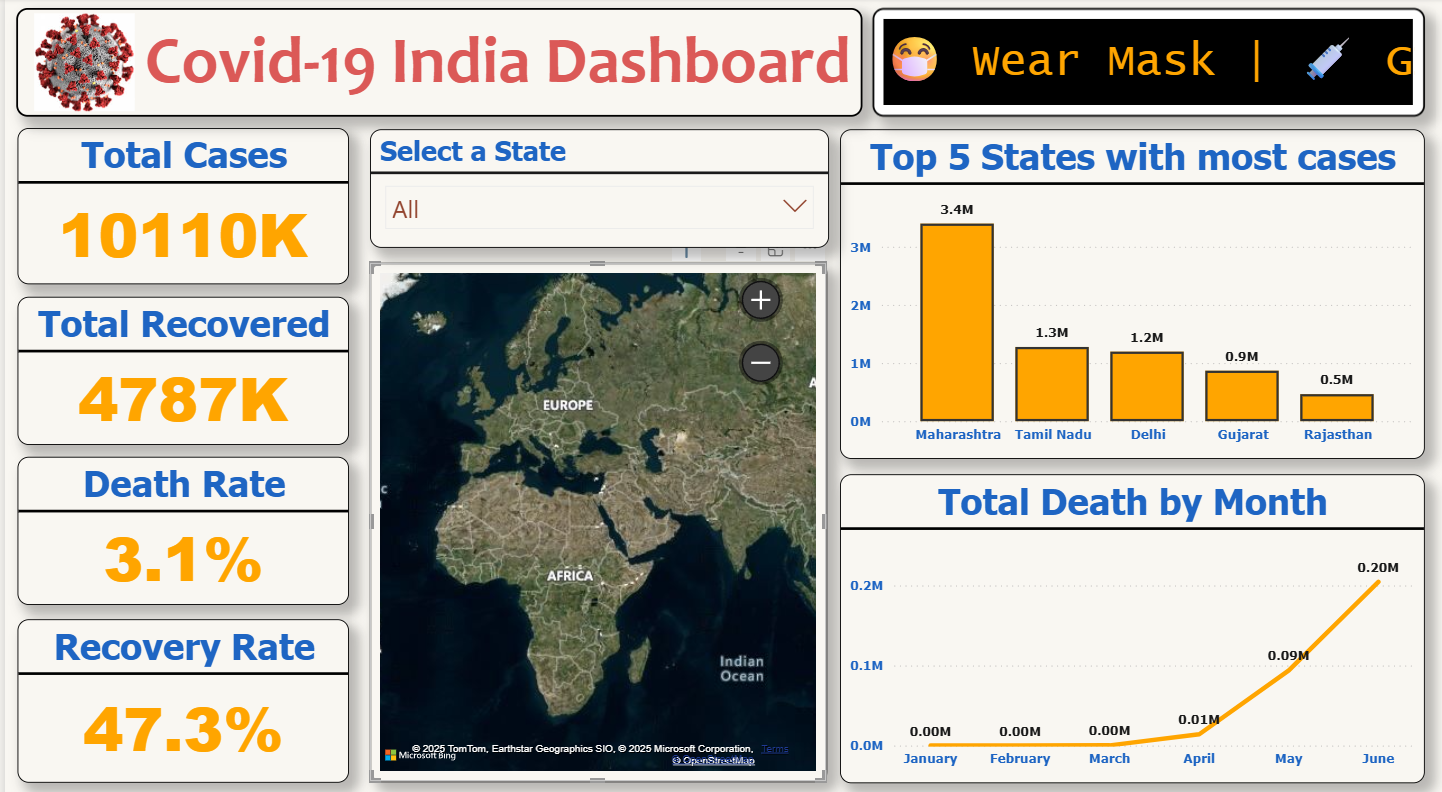

Layout of this report page (visuals, bound fields, positions):
{"tool":"powerbi","page":{"name":"Dashboard","canvas":[1280,720],"ordinal":0},"visuals":[{"type":"card","title":"Total Cases","fields":{"Values":["Key Measures.Total Cases"]},"box":[10.7,116.1,295.5,139.3],"z":0},{"type":"card","title":"Total Recovered","fields":{"Values":["Key Measures.Total Recovered"]},"box":[10.7,266.1,295.5,131.7],"z":1000},{"type":"card","title":"Death Rate","fields":{"Values":["Key Measures.Death Rate"]},"box":[10.7,408.2,295.5,131.7],"z":2000},{"type":"card","title":"Recovery Rate","fields":{"Values":["Key Measures.Recovery Rate"]},"box":[10.7,552.7,295.5,145.5],"z":3000},{"type":"filledMap","title":"State wise Active Cases","fields":{"X":["Sum(Covid+19+India+Dataset.Longitude)"]},"box":[324.6,235.8,407.3,462.4],"z":4000},{"type":"columnChart","title":"Top 5 States with most cases","fields":{"Category":["Covid+19+India+Dataset.Name of State / UT"],"Y":["Key Measures.Total Cases"]},"box":[744.1,116.4,520.6,294],"z":5000},{"type":"lineChart","fields":{"Category":["Covid+19+India+Dataset.Date.Variation.Date Hierarchy.Month"],"Y":["Key Measures.Total Death"]},"box":[744.1,424.1,520.6,275.6],"z":6000},{"type":"textbox","box":[10.3,9,753.5,96.8],"z":7000},{"type":"image","box":[20.6,9,99.4,96.8],"z":8000},{"type":"slicer","title":"Select a State","fields":{"Values":["Covid+19+India+Dataset.Name of State / UT"]},"box":[324.6,116.4,408.8,105.6],"z":9000},{"type":"ScrollingTextVisual1448795304508","fields":{"Measure Absolute":["Key Measures.Total Death"]},"box":[772.9,9,491.6,96.8],"z":10000}]}

Visuals, with their boxes in screenshot pixels (x1, y1, x2, y2), scaled from the page's 1280x720 canvas onto the 1442x792 screenshot:
"Total Cases" card: <region>12, 128, 345, 281</region>
"Total Recovered" card: <region>12, 293, 345, 438</region>
"Death Rate" card: <region>12, 449, 345, 594</region>
"Recovery Rate" card: <region>12, 608, 345, 768</region>
"State wise Active Cases" filledMap: <region>366, 259, 825, 768</region>
"Top 5 States with most cases" columnChart: <region>838, 128, 1425, 451</region>
lineChart - Covid+19+India+Dataset.Date.Variation.Date Hierarchy.Month x Key Measures.Total Death: <region>838, 467, 1425, 770</region>
textbox: <region>12, 10, 860, 116</region>
image: <region>23, 10, 135, 116</region>
"Select a State" slicer: <region>366, 128, 826, 244</region>
ScrollingTextVisual1448795304508 - Key Measures.Total Death: <region>871, 10, 1425, 116</region>
